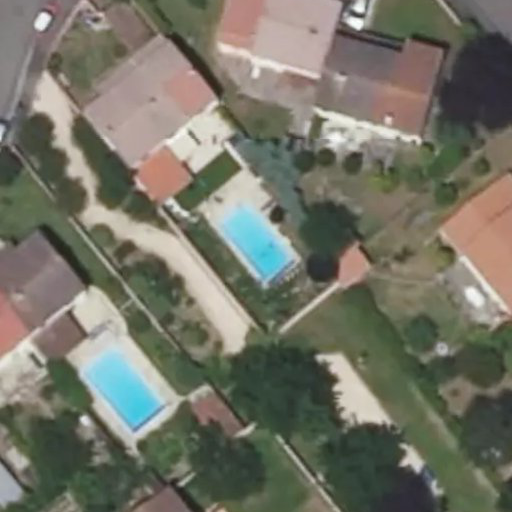pool: (218, 223, 294, 260)
